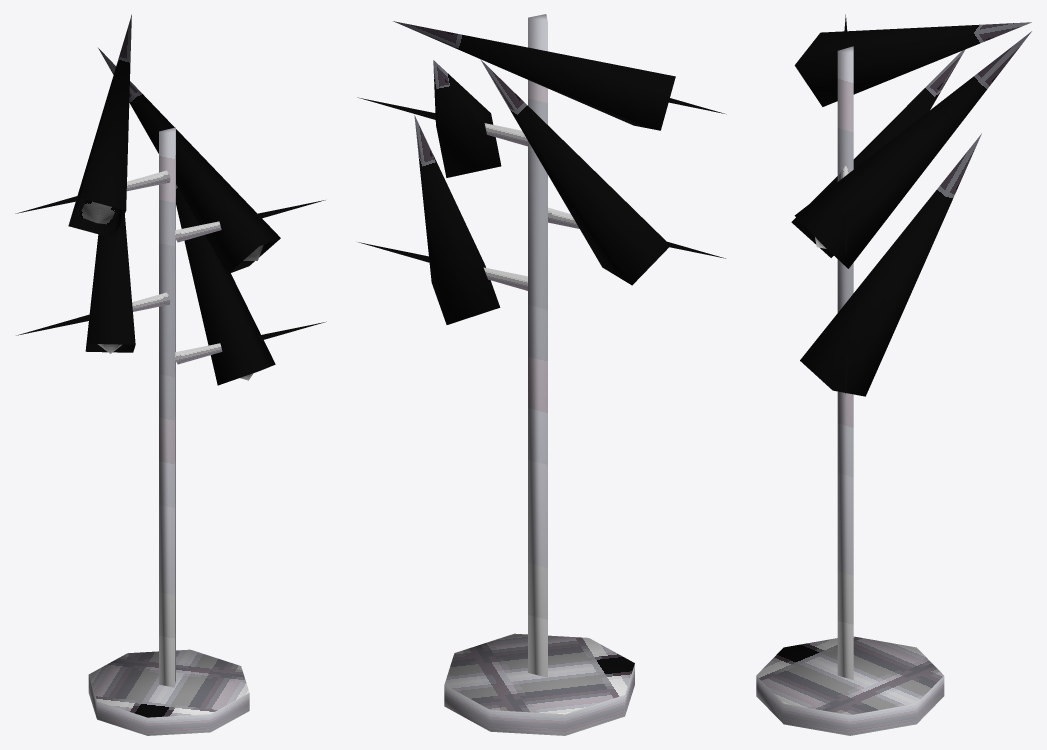
3 views of the same model, side by side, from view 1: azimuth 30°, elevation 25°; view 2: azimuth 150°, elevation 25°; view 3: azimuth 270°, elevation 25° (orthographic). The views are drawn at different scales.
Parts seen in each view (by area): view 1: 3111IMRL08_10; view 2: 3111IMRL08_10; view 3: 3111IMRL08_10.
Boxes of the visible parts, box(x1,y1,x2,y2) form: 3111IMRL08_10: box(15, 14, 326, 735); 3111IMRL08_10: box(357, 14, 726, 735); 3111IMRL08_10: box(756, 14, 1031, 735).
Bounding box in the file's own units: 1.15 × 2.16 × 0.7766.
Materials: 3 (3 with a texture image).
